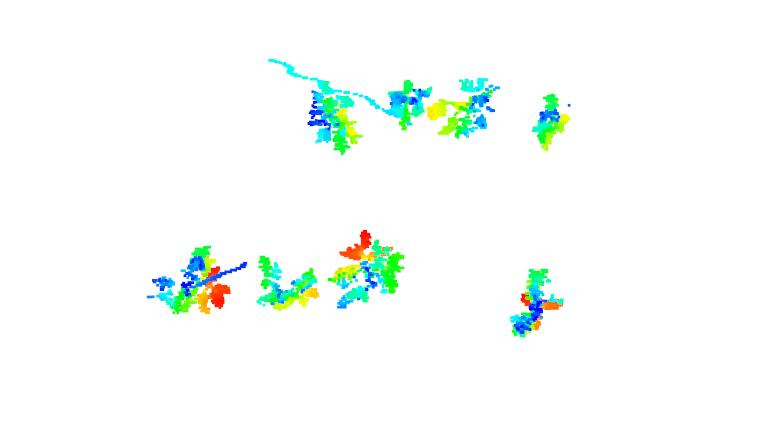chickpea: (326, 229, 408, 312), (146, 245, 232, 317), (431, 76, 502, 139), (508, 266, 567, 340), (307, 78, 363, 155), (256, 252, 319, 312), (385, 77, 432, 132), (530, 91, 569, 153)
